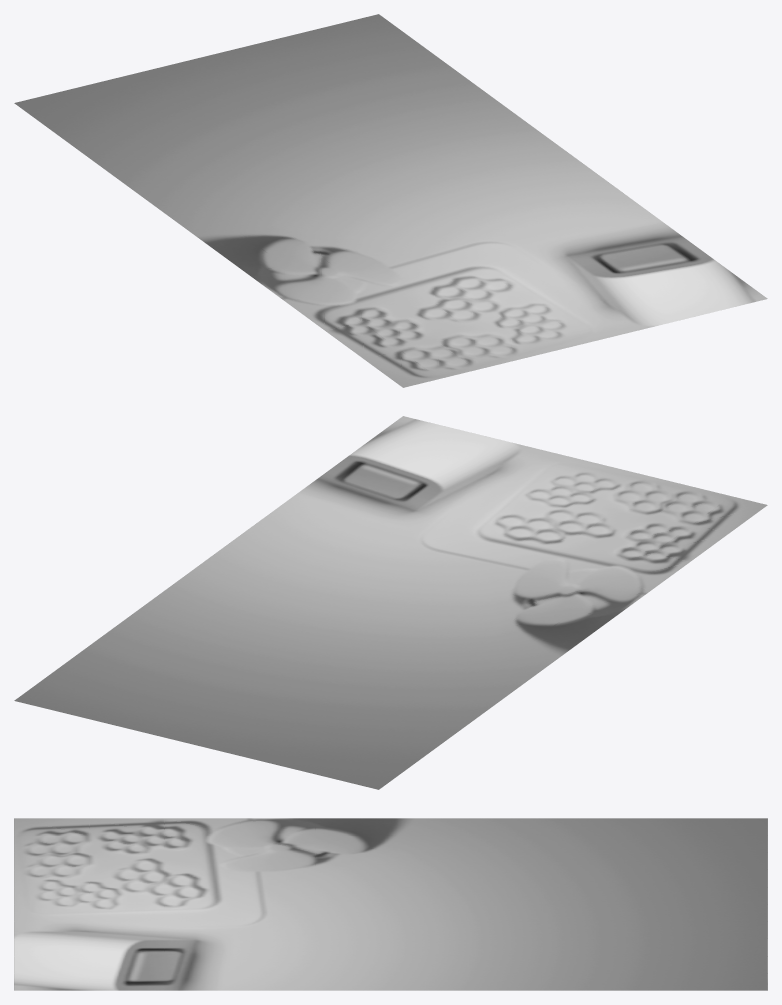
3 views of the same model, one above another, from view 1: azimuth 30°, elevation 25°; view 2: azimuth 150°, elevation 25°; view 3: azimuth 270°, elevation 25° (orthographic). The views are drawn at different scales.
Visible parts, largest first — view 1: BG_Plane; view 2: BG_Plane; view 3: BG_Plane.
Part boxes in pixels (x1,y1,x2,y2): BG_Plane: (14,14,767,387); BG_Plane: (14,416,767,789); BG_Plane: (14,818,767,990).
Bounding box in the file's own units: 1590 × 3.57e-14 × 2938.
Materials: 1 (1 with a texture image).
